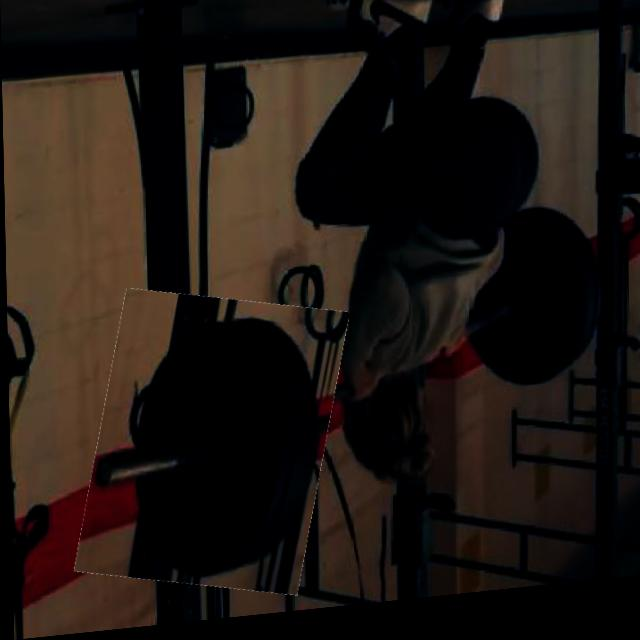barbell: (81, 285, 340, 609)
